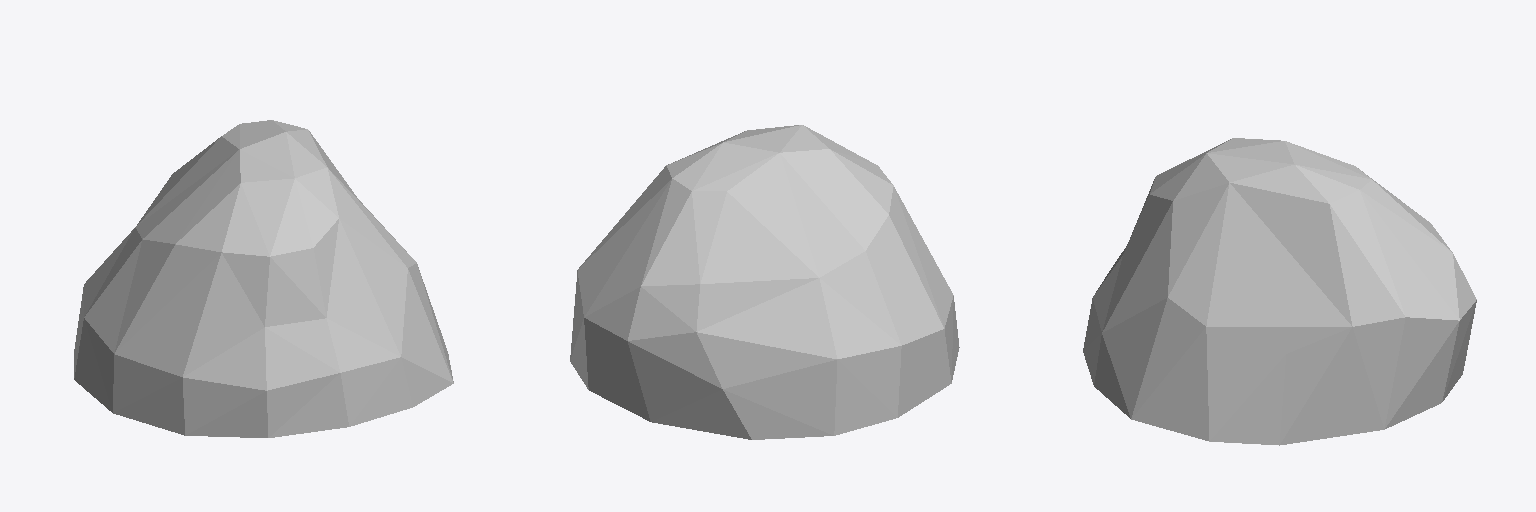
The model's file is stone21.obj.
3 views of the same model, side by side, from view 1: azimuth 30°, elevation 25°; view 2: azimuth 150°, elevation 25°; view 3: azimuth 270°, elevation 25° (orthographic).
Parts seen in each view (by area): view 1: stone2_Group1.001; view 2: stone2_Group1.001; view 3: stone2_Group1.001.
Part boxes in pixels (x1,y1,x2,y2): stone2_Group1.001: (74,120,453,437); stone2_Group1.001: (570,125,959,439); stone2_Group1.001: (1083,138,1476,445).
Bounding box in the file's own units: 3.09 × 1.98 × 3.23.